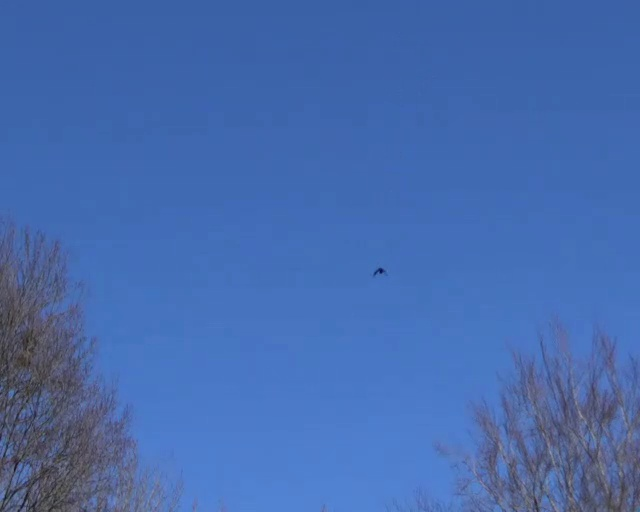BIRD: (373, 267, 386, 276)
